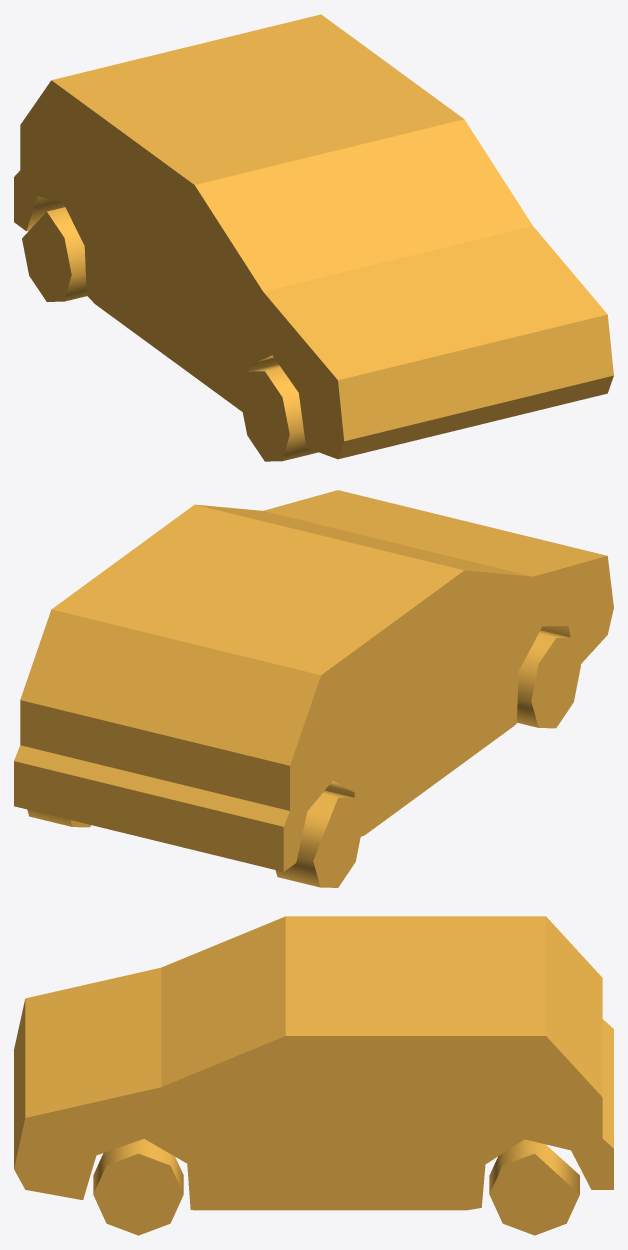
File: car.dae
3 renders of one model, top to bottom at view 1: azimuth 30°, elevation 25°; view 2: azimuth 150°, elevation 25°; view 3: azimuth 270°, elevation 25°, orthographic. The views are drawn at different scales.
Visible parts, largest first — view 1: ad47ba15-b0d6-4ff8-8b7d-63e15de9e9ed, aa0102a8-f0bf-44aa-93fd-10dd392ba4cc, d14d72e0-7816-4035-a0b3-74c5009ff3a2; view 2: ad47ba15-b0d6-4ff8-8b7d-63e15de9e9ed, d14d72e0-7816-4035-a0b3-74c5009ff3a2, aa0102a8-f0bf-44aa-93fd-10dd392ba4cc; view 3: ad47ba15-b0d6-4ff8-8b7d-63e15de9e9ed, afa9d41f-5cbb-4e7c-af43-1a5aee196d9f, d8a08d01-40ff-4c08-a010-b517e634cf21.
Boxes of the visible parts, x1,y1,x2,y2 form: ad47ba15-b0d6-4ff8-8b7d-63e15de9e9ed: (14, 14, 613, 459); aa0102a8-f0bf-44aa-93fd-10dd392ba4cc: (240, 364, 318, 461); d14d72e0-7816-4035-a0b3-74c5009ff3a2: (22, 207, 86, 301); ad47ba15-b0d6-4ff8-8b7d-63e15de9e9ed: (14, 490, 613, 871); d14d72e0-7816-4035-a0b3-74c5009ff3a2: (275, 790, 362, 887); aa0102a8-f0bf-44aa-93fd-10dd392ba4cc: (517, 630, 580, 728); ad47ba15-b0d6-4ff8-8b7d-63e15de9e9ed: (14, 916, 613, 1210); afa9d41f-5cbb-4e7c-af43-1a5aee196d9f: (93, 1139, 183, 1235); d8a08d01-40ff-4c08-a010-b517e634cf21: (489, 1139, 579, 1235).
Size of the model in its own units: 1.3 by 2.55 by 0.9135.
